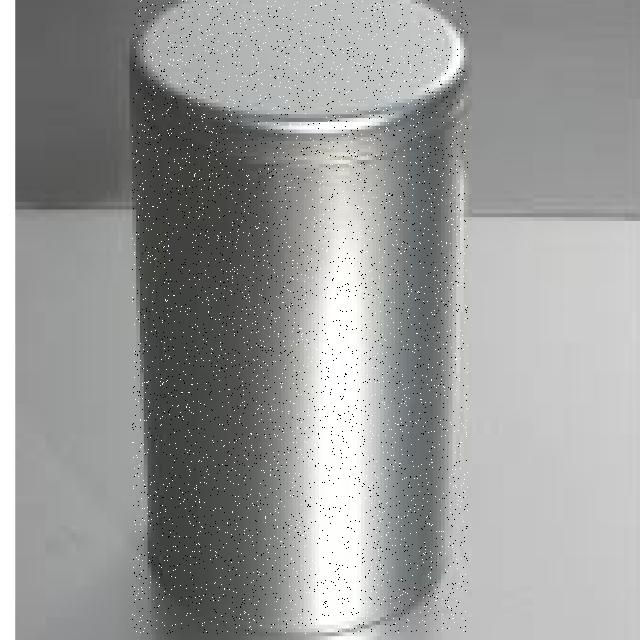metal: (133, 0, 468, 634)
